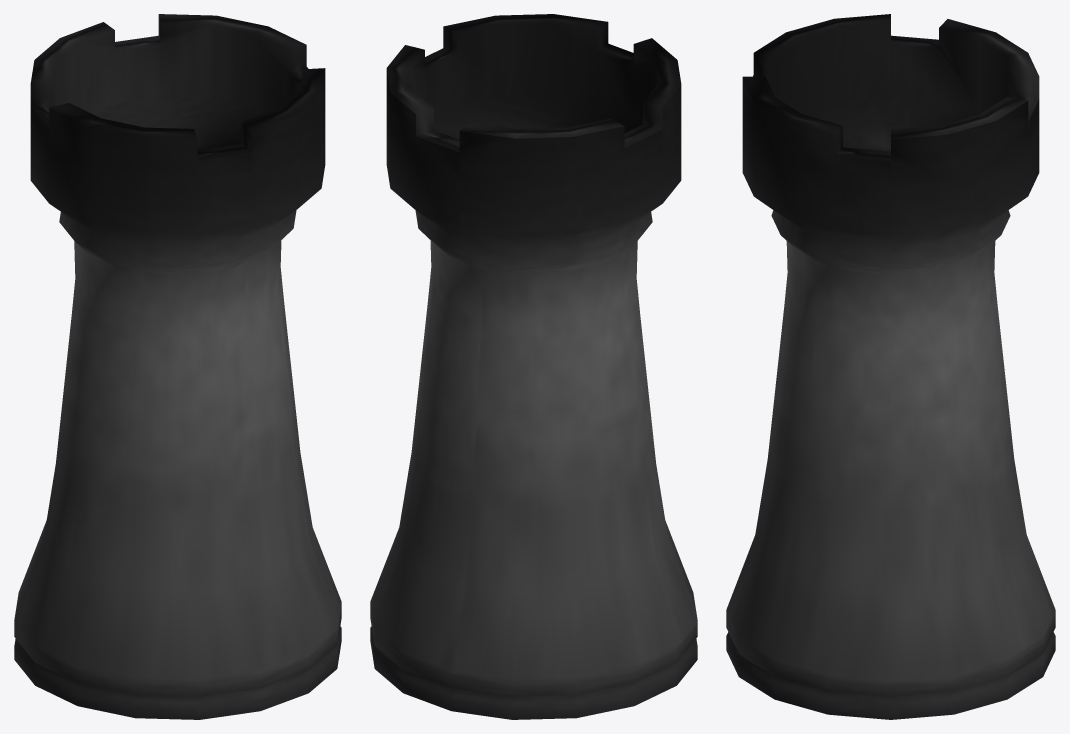
File: fort.glb
The picture shows the model from 3 angles, left to right: view 1: azimuth 30°, elevation 25°; view 2: azimuth 150°, elevation 25°; view 3: azimuth 270°, elevation 25°; orthographic projection.
Parts seen in each view (by area): view 1: Cylinder.004_Material.001_0.001; view 2: Cylinder.004_Material.001_0.001; view 3: Cylinder.004_Material.001_0.001.
Part boxes in pixels (x1,y1,x2,y2): Cylinder.004_Material.001_0.001: [14, 14, 341, 719]; Cylinder.004_Material.001_0.001: [370, 14, 697, 719]; Cylinder.004_Material.001_0.001: [726, 14, 1055, 719].
Bounding box in the file's own units: 5.5 × 10.57 × 5.5.
Materials: 1 (1 with a texture image).
